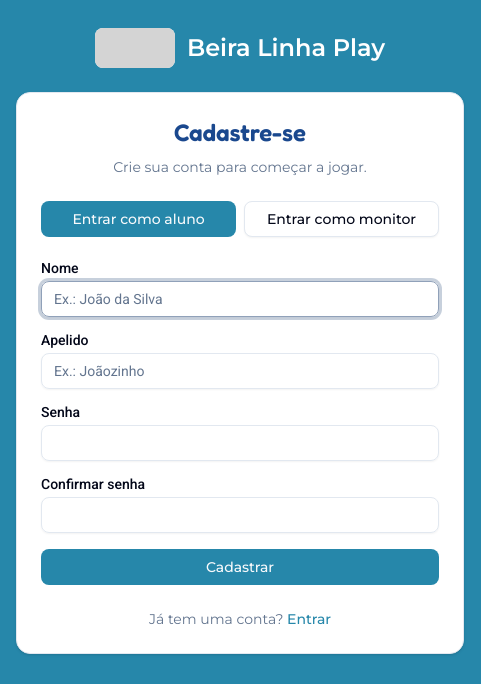
Test: RegisterPage › validates the monitor email
Click the button "Entrar como monitor" at (342, 219), box [244,201,439,237]
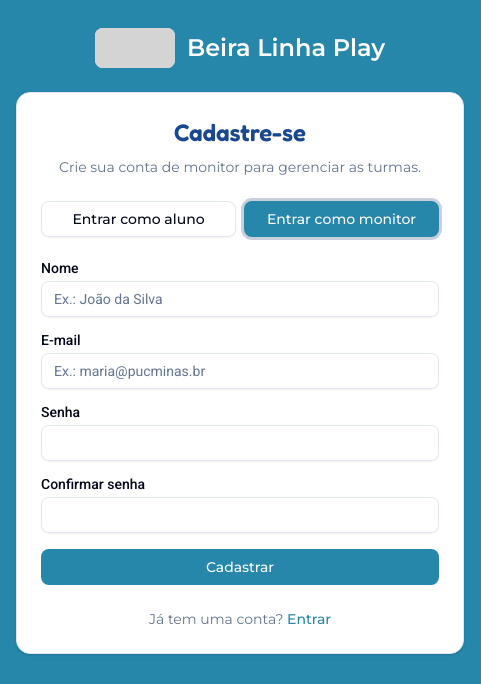
Type "Maria Souza" into the field labelled "Nome" at (240, 299), box [41,281,439,317]
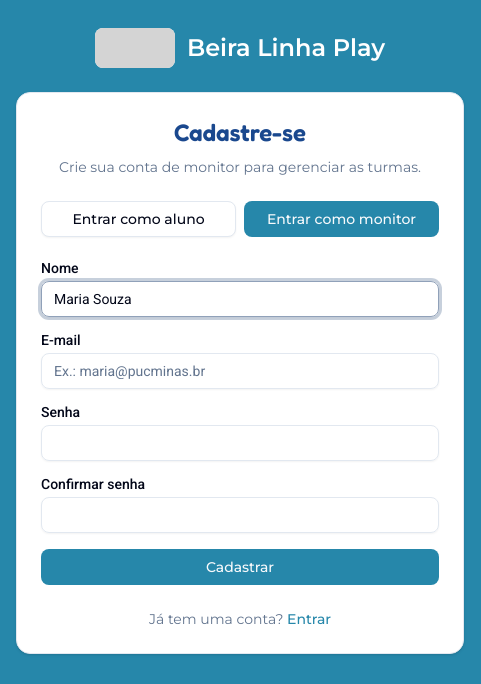
Type "123456" into the password field labelled "Senha" at (240, 443), box [41,425,439,461]
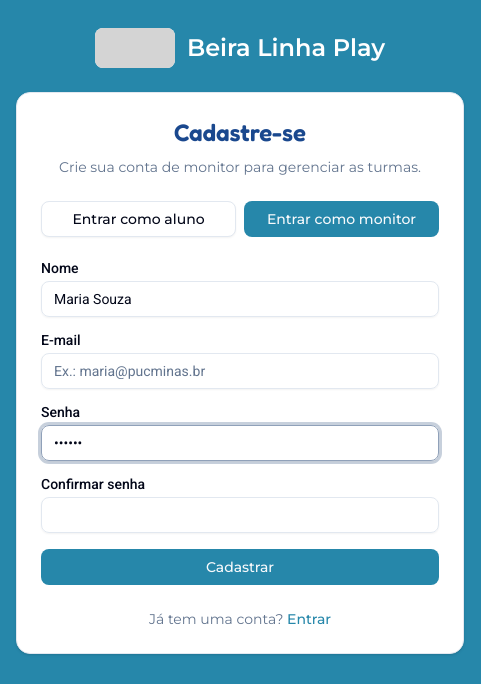
Type "123456" into the password field labelled "Confirmar senha" at (240, 515), box [41,497,439,533]
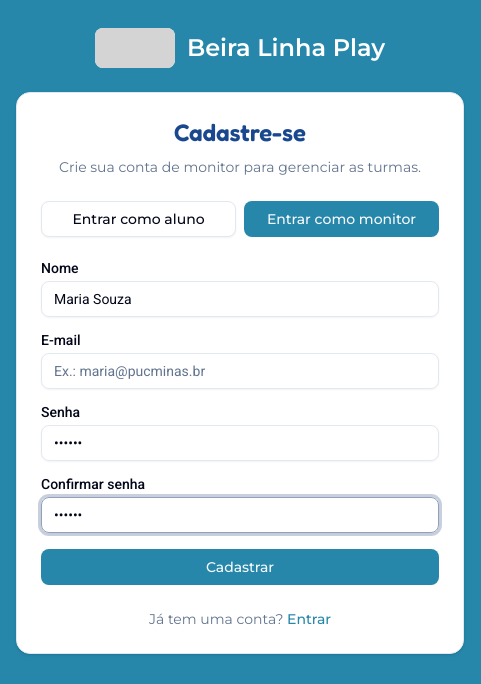
Click the button "Cadastrar" at (240, 567), box [41,549,439,585]
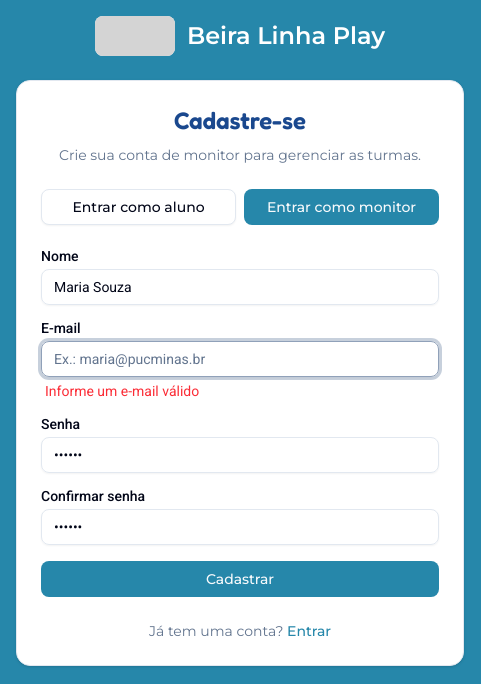
Check: the text "Informe um e-mail válido" is shown, box [45,383,199,399]
